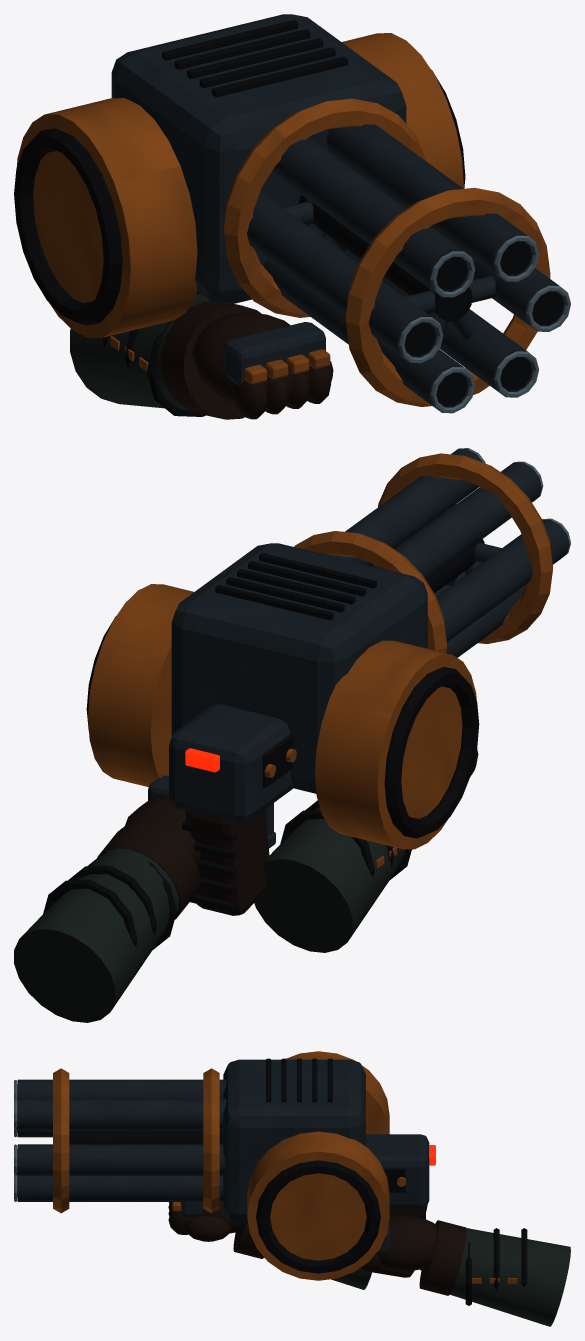
The model's file is chaingun.glb.
3 renders of one model, top to bottom at view 1: azimuth 30°, elevation 25°; view 2: azimuth 150°, elevation 25°; view 3: azimuth 270°, elevation 25°, orthographic. The views are drawn at different scales.
Visible parts, largest first — view 1: weapon, barrels; view 2: weapon, barrels; view 3: weapon, barrels.
Boxes of the visible parts, x1,y1,x2,y2 form: weapon: (14, 14, 465, 419); barrels: (224, 98, 570, 413); weapon: (14, 543, 479, 1022); barrels: (294, 448, 570, 657); weapon: (168, 1051, 570, 1326); barrels: (14, 1068, 226, 1213).
Bounding box in the file's own units: 0.6412 × 0.6452 × 1.41.
7 materials, 7 textured.
